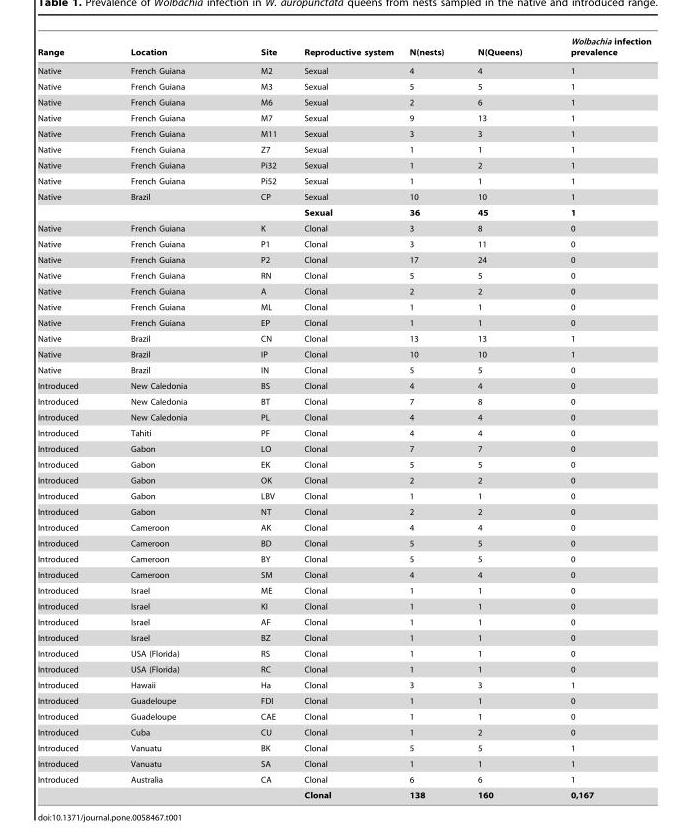table: (37, 36, 650, 799)
table column: (103, 36, 223, 799), (289, 36, 400, 799), (545, 36, 650, 799), (460, 36, 545, 799), (37, 36, 103, 799), (223, 36, 289, 799), (400, 36, 460, 799)
table column header: (37, 36, 650, 61)
table row: (37, 36, 650, 61), (37, 61, 650, 78), (37, 78, 650, 94), (37, 94, 650, 110), (37, 125, 650, 141), (37, 141, 650, 157), (37, 157, 650, 173), (37, 188, 650, 204), (37, 204, 650, 220), (37, 220, 650, 236), (37, 251, 650, 267), (37, 267, 650, 283), (37, 283, 650, 299), (37, 314, 650, 330), (37, 330, 650, 346), (37, 346, 650, 362), (37, 377, 650, 393), (37, 393, 650, 409), (37, 409, 650, 425), (37, 440, 650, 456), (37, 456, 650, 472), (37, 472, 650, 488), (37, 503, 650, 519), (37, 519, 650, 535), (37, 535, 650, 551), (37, 566, 650, 582), (37, 582, 650, 598), (37, 598, 650, 614), (37, 629, 650, 645), (37, 645, 650, 661), (37, 661, 650, 677), (37, 692, 650, 708), (37, 708, 650, 724), (37, 724, 650, 740), (37, 755, 650, 771), (37, 771, 650, 787), (37, 110, 650, 125), (37, 173, 650, 188), (37, 236, 650, 251), (37, 299, 650, 314), (37, 362, 650, 377), (37, 425, 650, 440), (37, 488, 650, 503), (37, 551, 650, 566), (37, 614, 650, 629), (37, 677, 650, 692), (37, 740, 650, 755), (37, 787, 650, 799)
table spanning cell: (37, 188, 103, 220), (37, 771, 103, 799)
